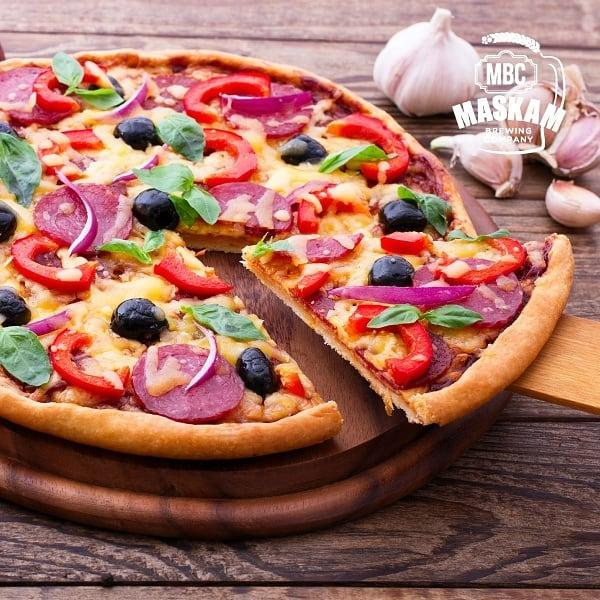Basil: (0, 327, 53, 387), (0, 132, 41, 209), (152, 107, 207, 161), (182, 305, 267, 339), (398, 185, 453, 233), (318, 144, 383, 171), (421, 304, 485, 328), (132, 164, 193, 189), (366, 304, 421, 329), (184, 189, 218, 225), (102, 240, 149, 264), (52, 53, 82, 89), (76, 89, 125, 109), (446, 229, 511, 239), (142, 230, 163, 251)
Olives: (111, 298, 170, 343), (239, 345, 279, 394), (133, 188, 178, 231), (115, 117, 160, 152), (380, 198, 426, 231), (367, 256, 413, 287), (280, 134, 327, 164), (0, 291, 30, 327), (0, 207, 18, 241)
Pepperoni: (0, 53, 480, 454), (251, 241, 575, 418), (127, 343, 245, 425), (414, 260, 521, 326), (0, 66, 75, 123), (230, 85, 303, 135), (143, 73, 201, 115)
Peppers: (35, 182, 132, 251), (352, 306, 431, 382), (330, 114, 410, 179), (11, 232, 96, 293), (52, 328, 127, 393), (183, 73, 270, 123), (435, 237, 525, 285), (202, 184, 293, 230), (195, 128, 258, 184), (299, 183, 366, 233), (37, 62, 107, 107), (156, 256, 234, 294), (294, 261, 330, 298), (380, 231, 431, 253)
